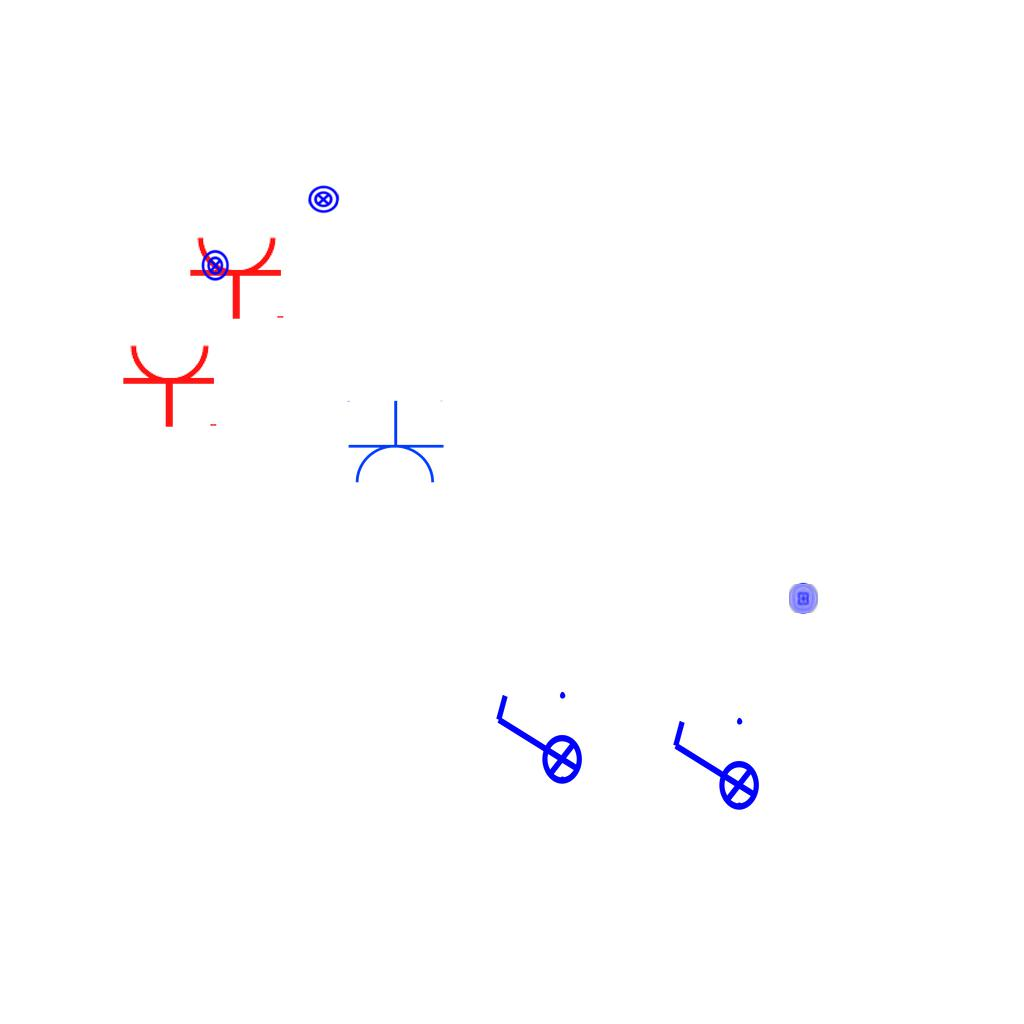Ausschalter_beleuchtet: (488, 686, 584, 798), (665, 712, 761, 824)
Schukosteckdose_einfach: (345, 400, 445, 487), (121, 342, 221, 429), (188, 234, 288, 321)
Taster_beleuchtet: (306, 182, 341, 217), (787, 582, 820, 615), (199, 249, 232, 282)
